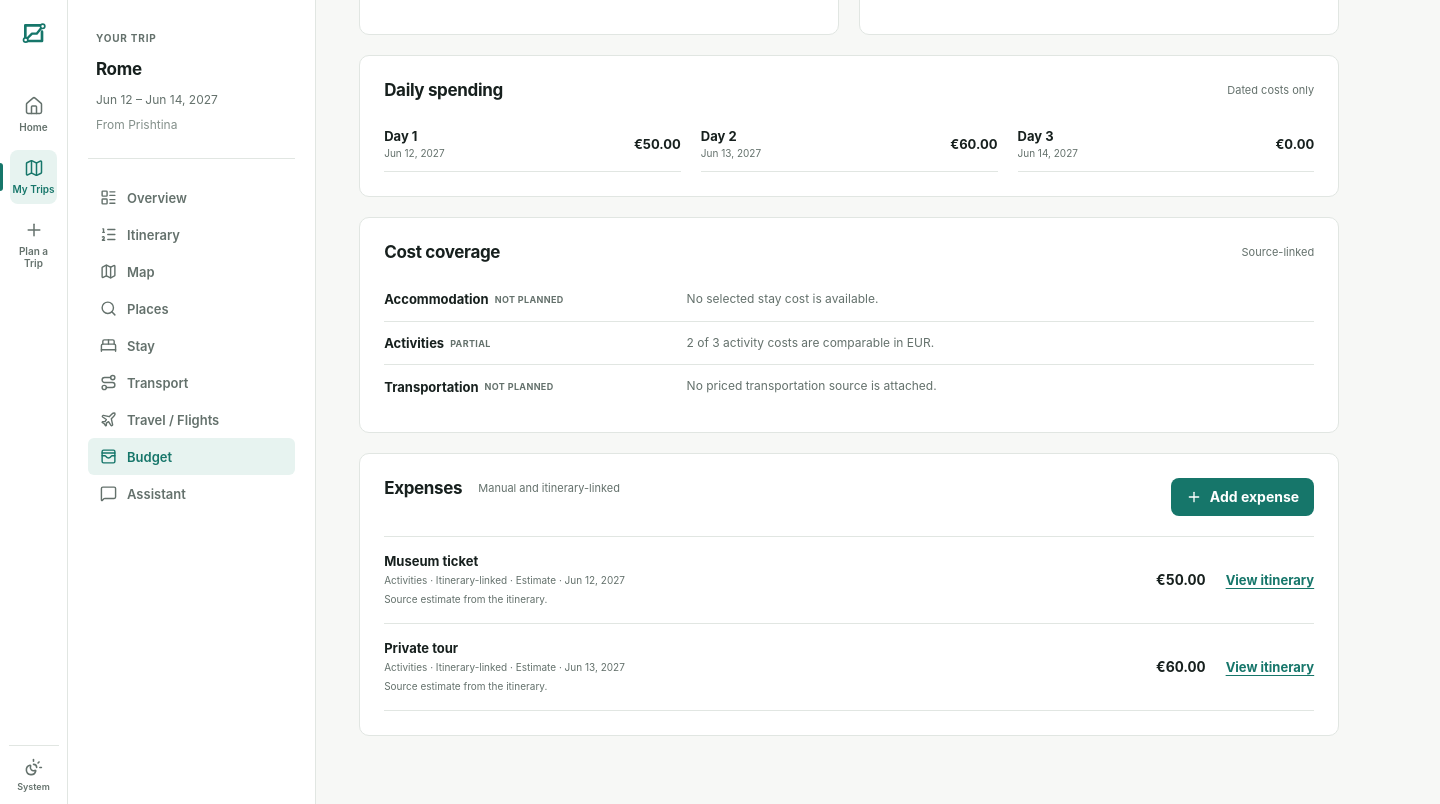
Scenario: Budget workspace › deletes only the selected manual expense after confirmation
(page scrolled)
Click the button "Add expense" at (1242, 497), box top-left (1171, 478), bottom-right (1314, 516)
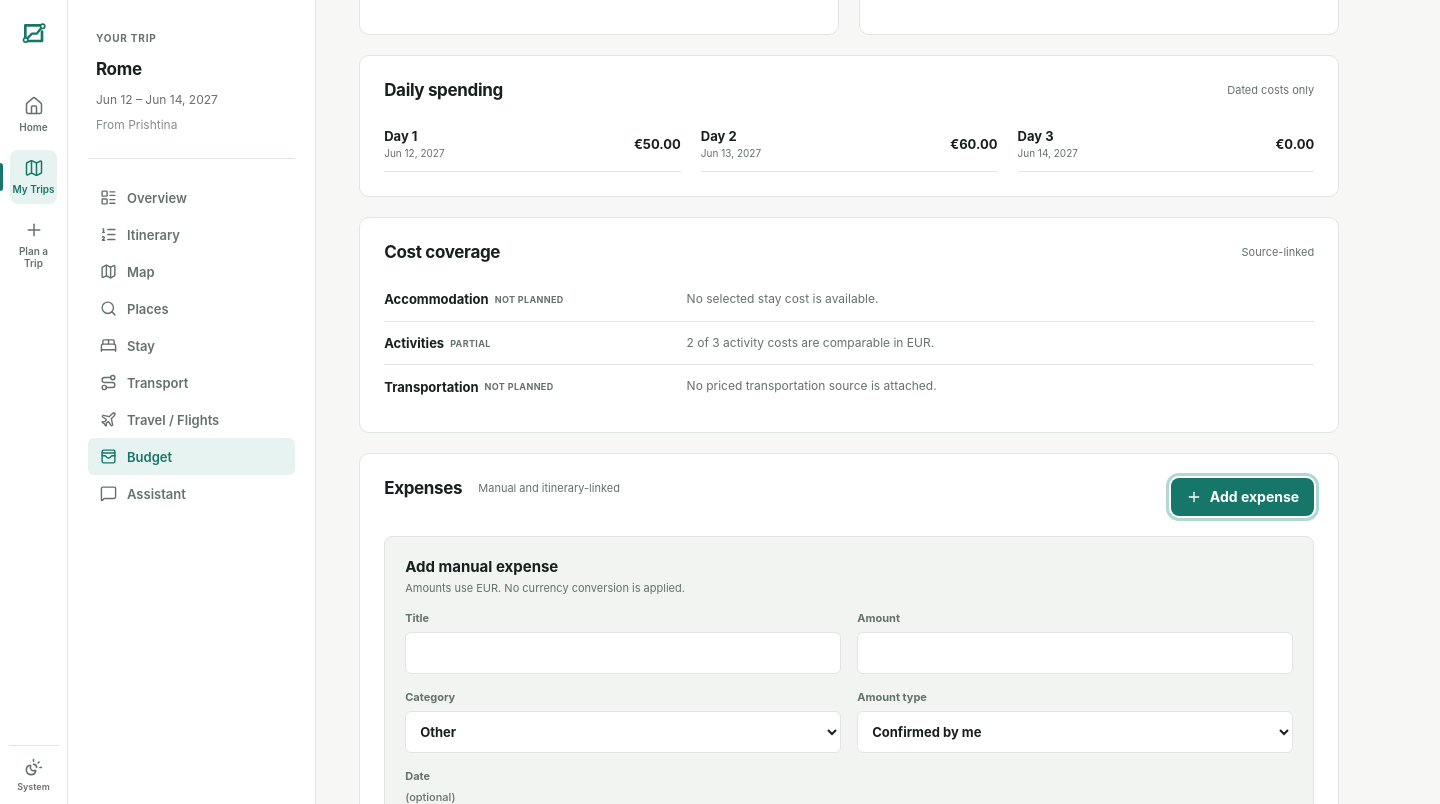
Type "Souvenirs" into the field labelled "Title" at (623, 653), box top-left (405, 632), bottom-right (841, 674)
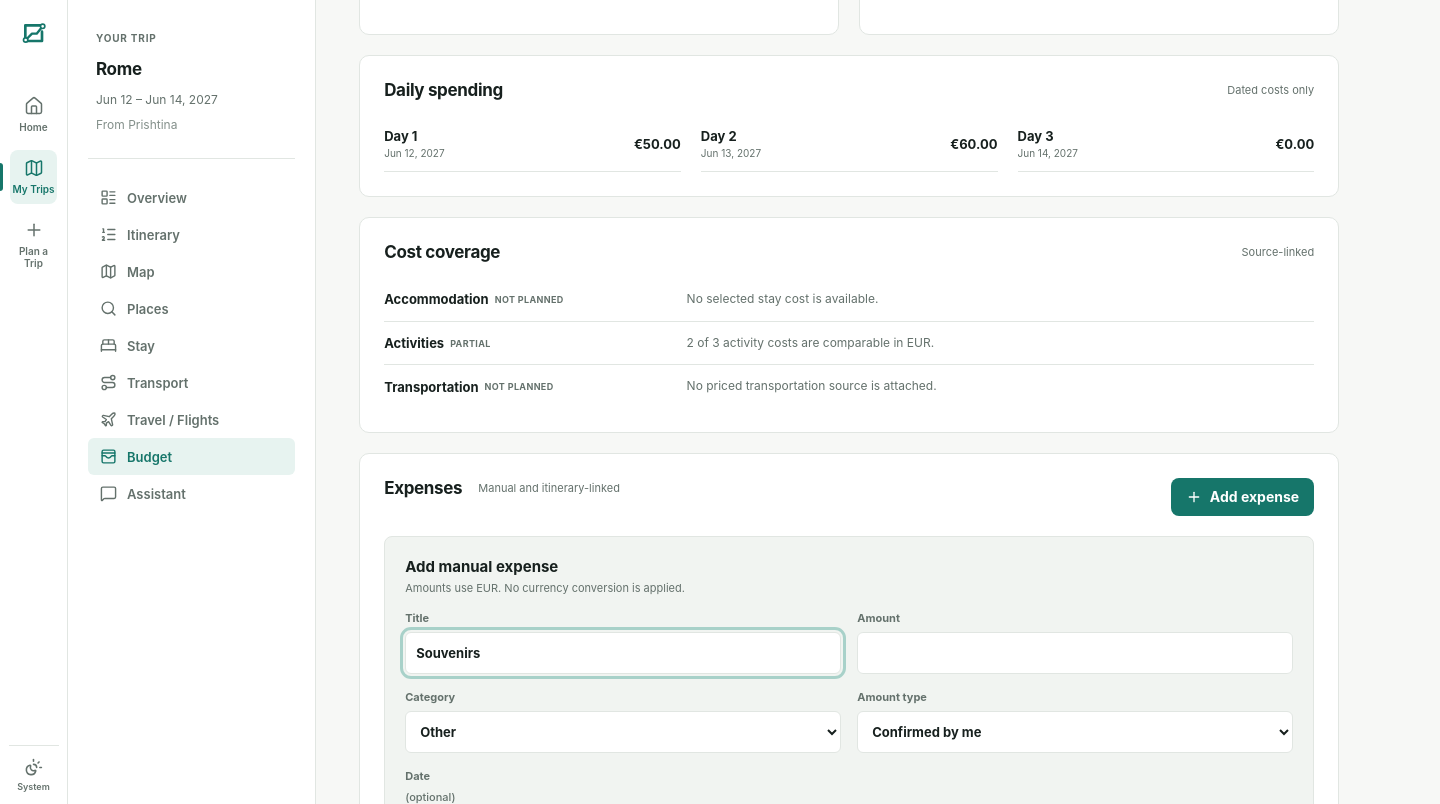
Type "20" into the number field labelled "Amount" at (1075, 653), box top-left (857, 632), bottom-right (1293, 674)
(page scrolled)
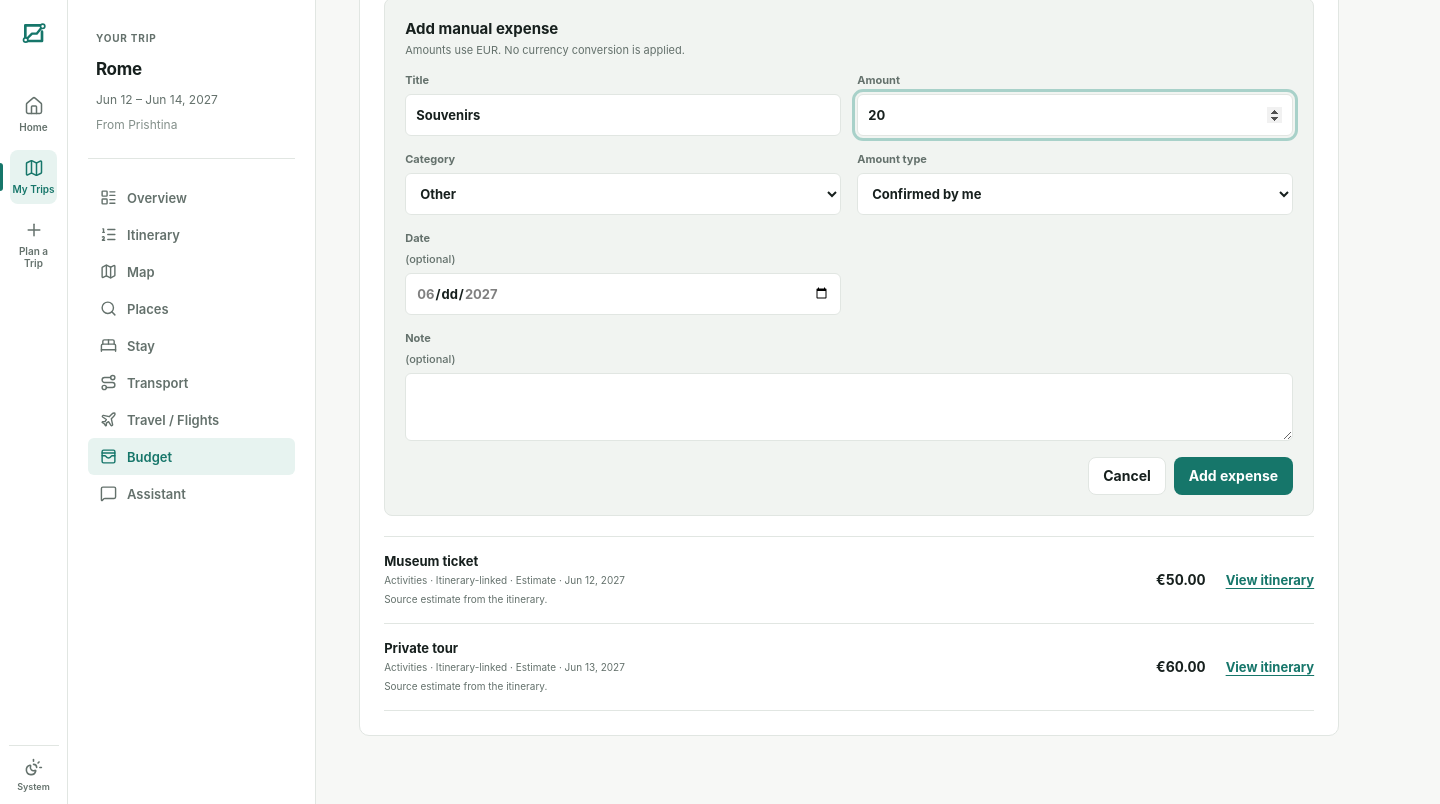
Click the button "Add expense" at (1233, 476), box top-left (1174, 457), bottom-right (1293, 495)
(page scrolled)
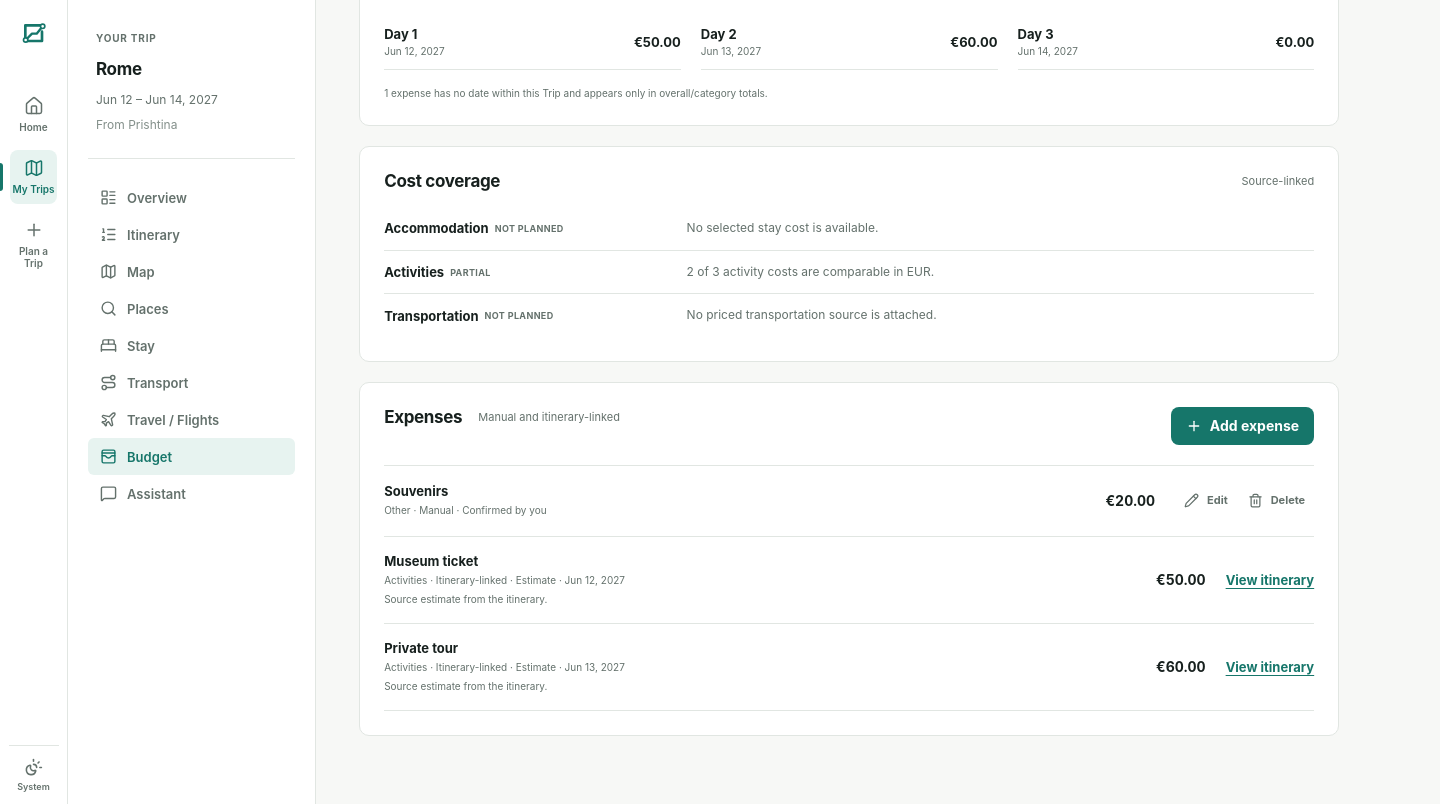
Click the button with aria-label "Delete Souvenirs" at (1276, 501), box top-left (1239, 482), bottom-right (1314, 520)
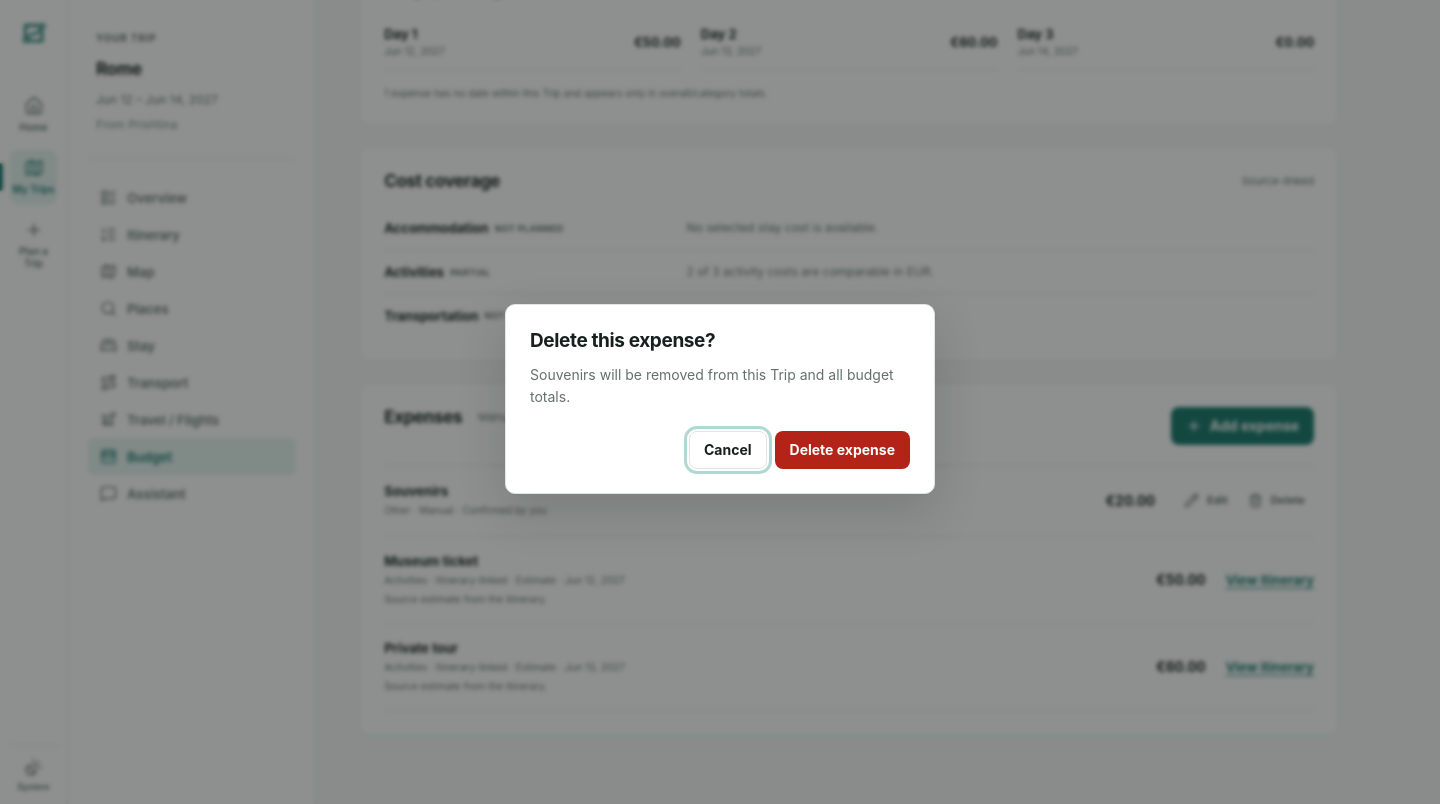
Click the button "Delete expense" at (842, 450), box top-left (774, 431), bottom-right (910, 469)
(page scrolled)
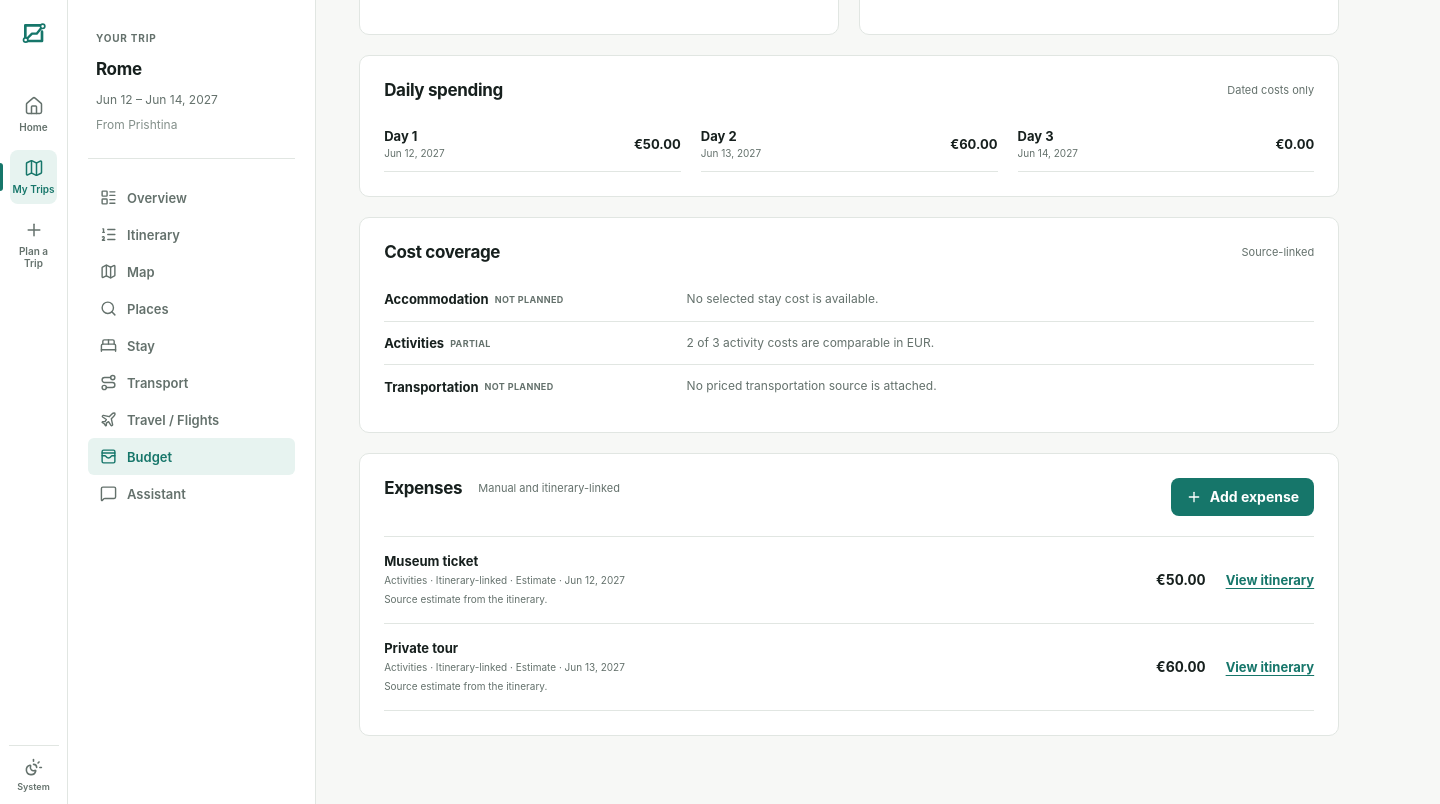
Expected: the text "Museum ticket" is shown, top-left (384, 553), bottom-right (478, 569)
Expected: the text "Souvenirs" is gone
